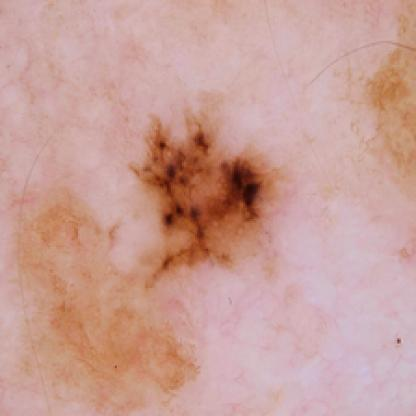Skin_Cancer-Malignant: (134, 114, 280, 282)
